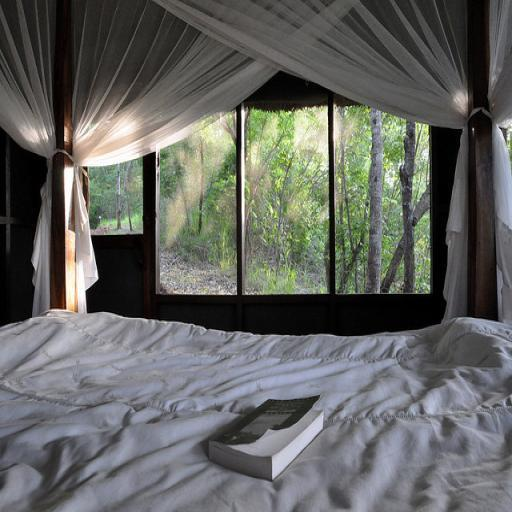bed: (10, 265, 512, 512)
